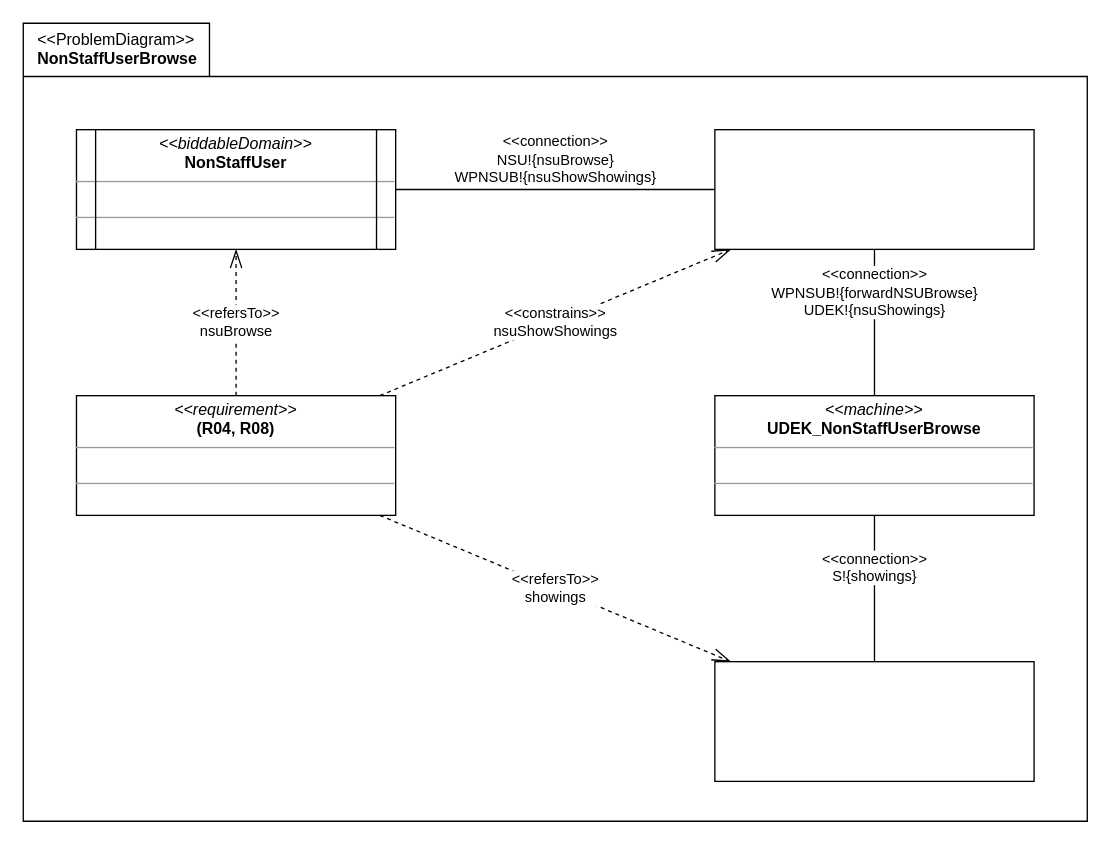
This 1111x845 diagram has some shape labels left out. The box of each missing label's shape, as (x1, y1, x2, y2) in pixels:
<<connectionDomain, designedDomain>> WebpageNonStaffUserBrowse: (714, 128, 1034, 249)
<<lexicalDomain, designedDomain>> Showing: (714, 660, 1034, 781)
